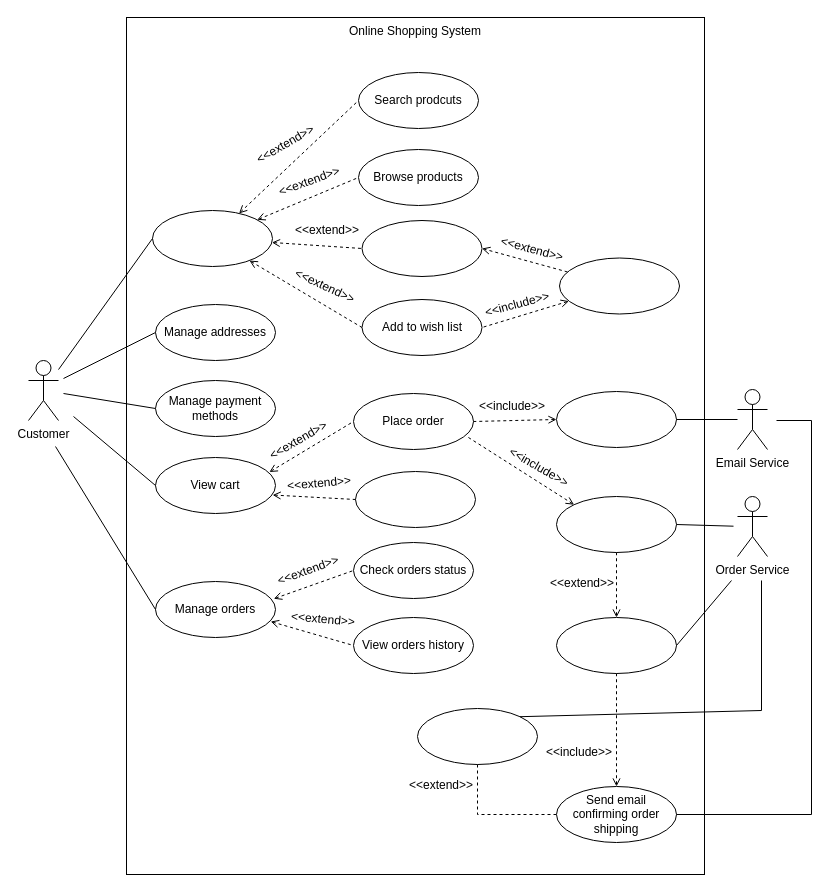
Image size: 830x892. Some labels were removed from this diagram. Each missing label, with the centre of its shape:
Add to shopping cart: [421,248]
Customer authenticates: [619,285]
Finish order: [477,736]
Remove products from cart: [415,499]
Sends email with payment confirmation: [616,419]
Ship order: [616,645]
Start processing the order: [616,524]
View products: [212,238]
